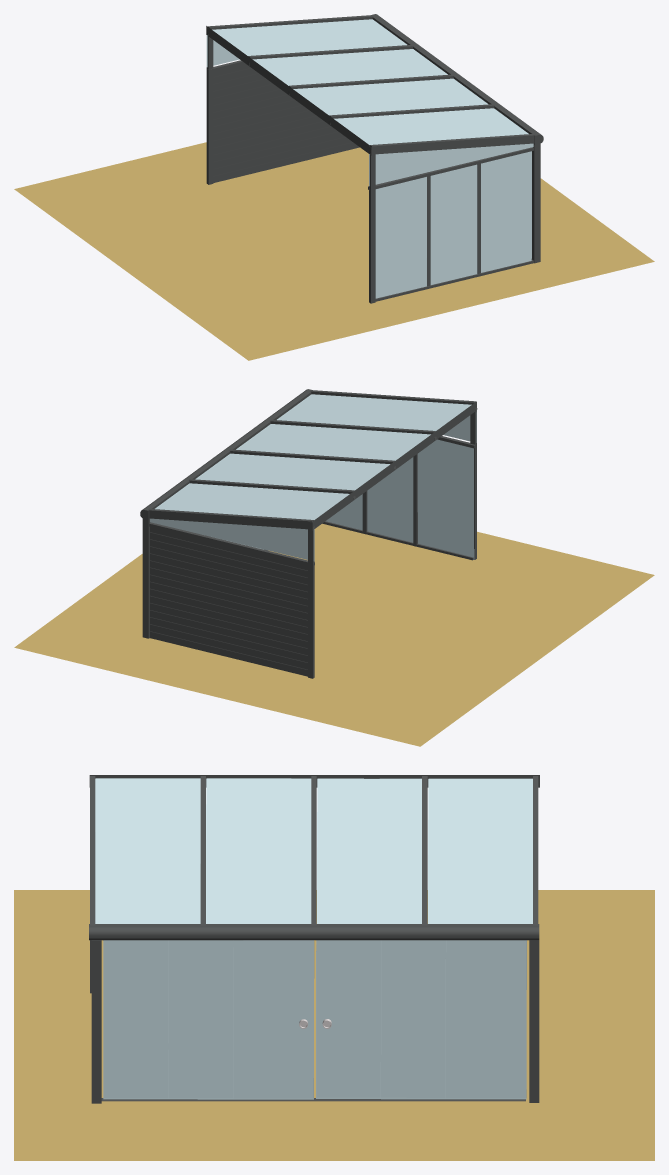
3 views of the same model, one above another, from view 1: azimuth 30°, elevation 25°; view 2: azimuth 150°, elevation 25°; view 3: azimuth 270°, elevation 25° (orthographic). The views are drawn at different scales.
Visible parts, largest first — view 1: Plane, roof, wall, doorfleft.003, doorfleft.001, doorfleft.002, Rafter, trianglel, Plane.001, gutter, Cube.006, post (+3 smaller); view 2: Plane, roof, wall, doorfleft.003, Rafter, doorfleft.002, triangler, Plane.001, gutter, Cube.006, Poats, Cube.003 (+3 smaller); view 3: Plane, roof, doorfleft, doorfright, gutter, Rafter, post, Plane.001, Poats, Cube.
Boxes of the visible parts, x1,y1,x2,y2 form: Plane: [14, 142, 654, 360]; roof: [212, 19, 528, 144]; wall: [213, 63, 359, 182]; doorfleft.003: [375, 177, 426, 298]; doorfleft.001: [481, 151, 531, 272]; doorfleft.002: [430, 164, 477, 284]; Rafter: [206, 15, 536, 154]; trianglel: [369, 143, 533, 186]; Plane.001: [206, 26, 371, 155]; gutter: [372, 14, 543, 144]; Cube.006: [206, 28, 213, 184]; post: [531, 143, 540, 263]; Plane: [14, 523, 654, 746]; roof: [155, 394, 471, 519]; wall: [150, 526, 307, 676]; doorfleft.003: [417, 439, 474, 559]; Rafter: [147, 390, 477, 529]; doorfleft.002: [367, 457, 413, 542]; triangler: [150, 518, 314, 561]; Plane.001: [312, 401, 476, 530]; gutter: [140, 389, 311, 519]; Cube.006: [308, 521, 314, 678]; Poats: [142, 518, 150, 638]; Cube.003: [149, 522, 314, 566]; Plane: [14, 890, 654, 1160]; roof: [95, 778, 532, 923]; doorfleft: [103, 940, 314, 1099]; doorfright: [316, 940, 526, 1099]; gutter: [89, 924, 539, 940]; Rafter: [90, 776, 538, 925]; post: [91, 940, 101, 1103]; Plane.001: [89, 775, 539, 787]; Poats: [529, 940, 539, 1102]; Cube: [101, 1098, 525, 1101].
Size of the model in its own units: 7.12 by 2.66 by 7.12.
